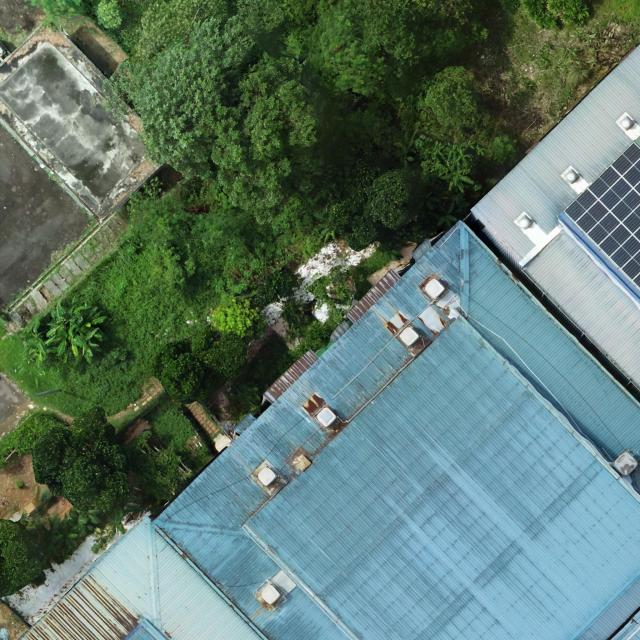Tree: (98, 13, 260, 182), (206, 51, 331, 228), (280, 0, 492, 102), (31, 405, 130, 516), (124, 174, 233, 256), (330, 157, 425, 250), (117, 0, 236, 61), (149, 338, 228, 404), (44, 295, 106, 365), (422, 66, 487, 129), (0, 518, 44, 599), (188, 325, 249, 380), (208, 297, 266, 342), (21, 313, 61, 367), (38, 524, 76, 559), (67, 504, 103, 537), (440, 162, 474, 194), (393, 129, 419, 169), (311, 210, 337, 243), (428, 202, 460, 227), (418, 191, 438, 211)
